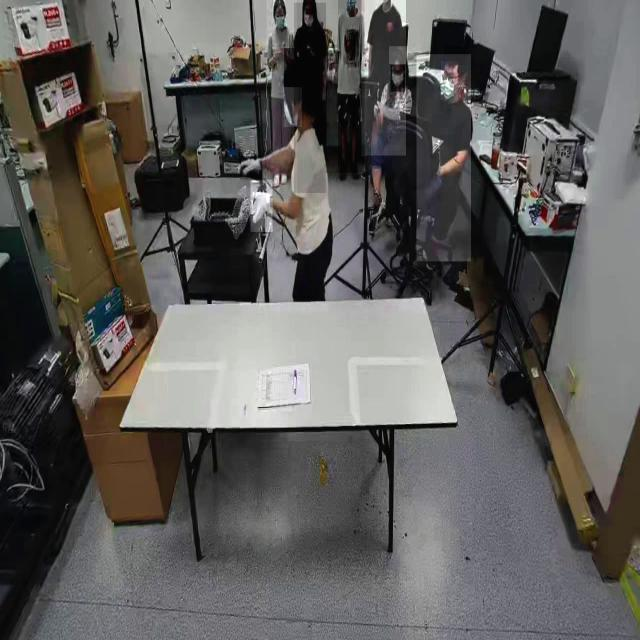face_mask: (284, 87, 302, 127), (441, 62, 458, 102), (390, 65, 406, 92), (306, 8, 318, 38), (274, 6, 286, 32)
hand_glove: (251, 179, 273, 233), (240, 156, 262, 180)
hand_noglove: (321, 84, 327, 104), (332, 64, 338, 84)
head_nohelmet: (284, 48, 323, 88), (444, 46, 466, 67), (389, 46, 408, 64), (302, 0, 316, 7), (273, 0, 285, 7)
person: (252, 71, 334, 312), (416, 54, 472, 262), (365, 51, 413, 231), (361, 0, 406, 156), (266, 0, 298, 203), (294, 3, 326, 193), (338, 0, 365, 173)
